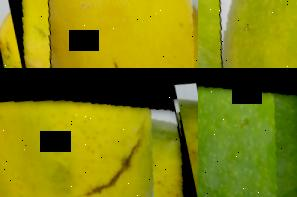PartiallyRipe: (0, 70, 198, 197), (198, 0, 297, 68)
Ripe: (7, 0, 198, 68)
Unripe: (198, 68, 297, 197)
